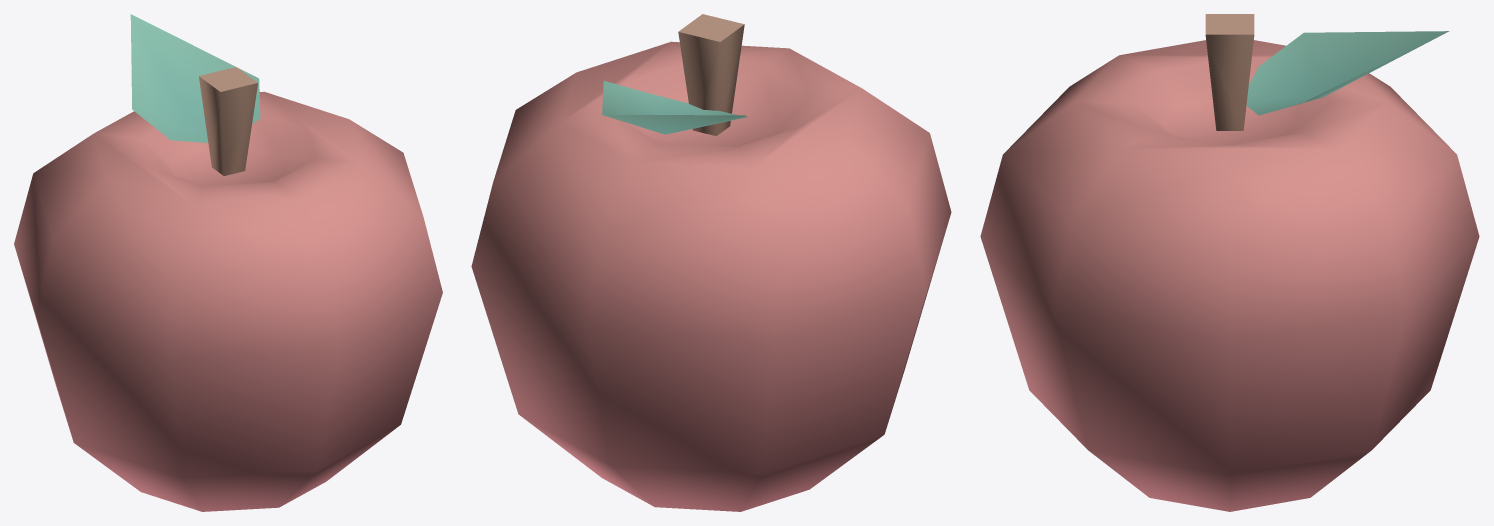
Rendered from apple.glb.
3 views of the same model, side by side, from view 1: azimuth 30°, elevation 25°; view 2: azimuth 150°, elevation 25°; view 3: azimuth 270°, elevation 25° (orthographic). The views are drawn at different scales.
Visible parts, largest first — view 1: apple; view 2: apple; view 3: apple.
Boxes of the visible parts, x1=… form: apple: x1=14, y1=14, x2=442, y2=511; apple: x1=471, y1=14, x2=951, y2=511; apple: x1=980, y1=14, x2=1479, y2=511.
Bounding box in the file's own units: 0.1963 × 0.1908 × 0.1963.
